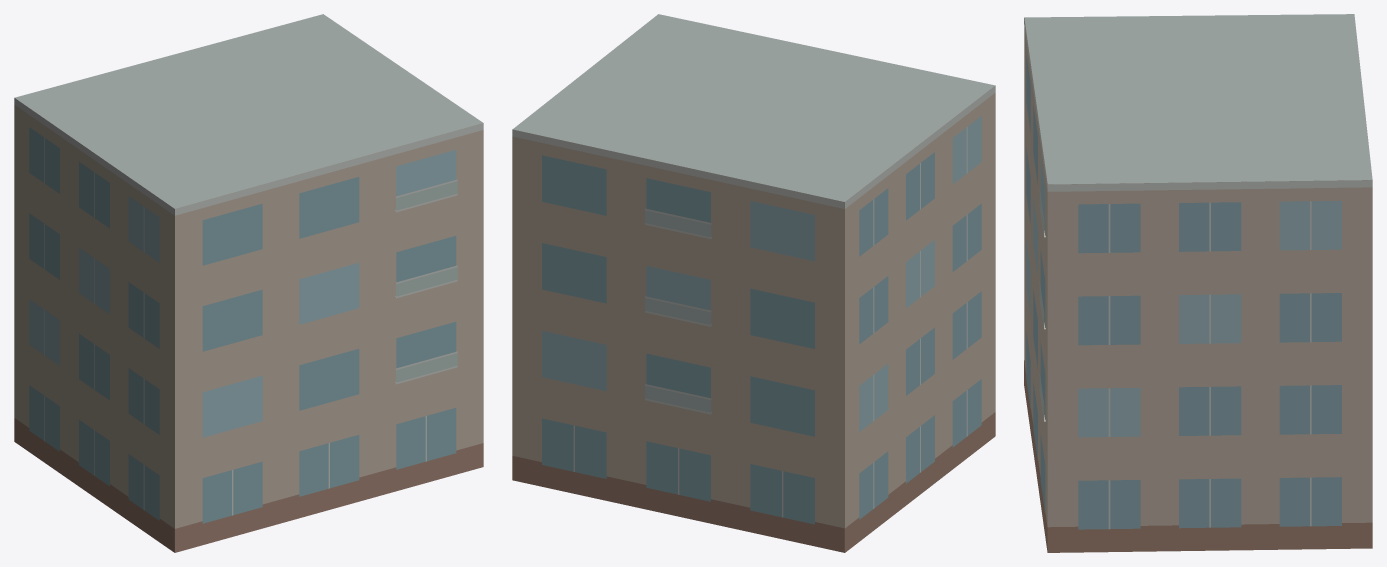
File: residential-793e5a6d-393a-442b-b29b-f0318efe2218.glb
3 renders of one model, left to right at view 1: azimuth 30°, elevation 25°; view 2: azimuth 150°, elevation 25°; view 3: azimuth 270°, elevation 25°, orthographic. The views are drawn at different scales.
Parts seen in each view (by area): view 1: residential-793e5a6d-393a-442b-b29b-f0318efe2218.tmp; view 2: residential-793e5a6d-393a-442b-b29b-f0318efe2218.tmp; view 3: residential-793e5a6d-393a-442b-b29b-f0318efe2218.tmp.
Part boxes in pixels (bbox=[...]): residential-793e5a6d-393a-442b-b29b-f0318efe2218.tmp: bbox=[14, 14, 483, 552]; residential-793e5a6d-393a-442b-b29b-f0318efe2218.tmp: bbox=[512, 14, 995, 552]; residential-793e5a6d-393a-442b-b29b-f0318efe2218.tmp: bbox=[1024, 14, 1372, 552].
Size of the model in its own units: 12.11 by 12.2 by 10.46.
